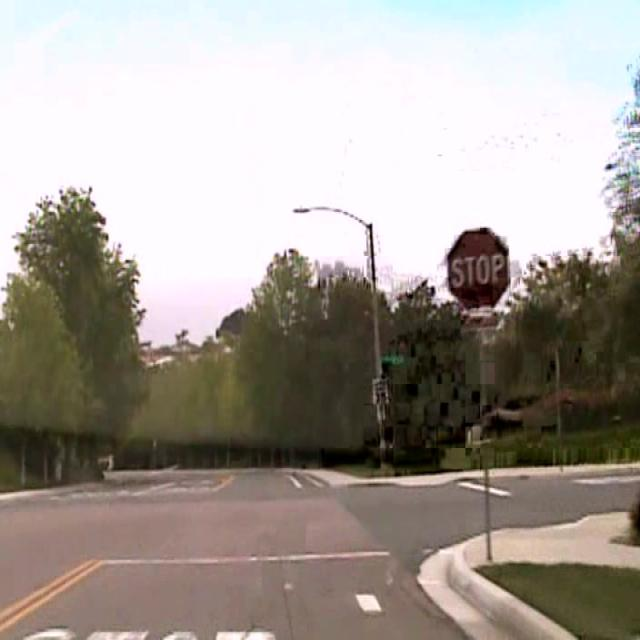stop: (446, 226, 510, 310)
